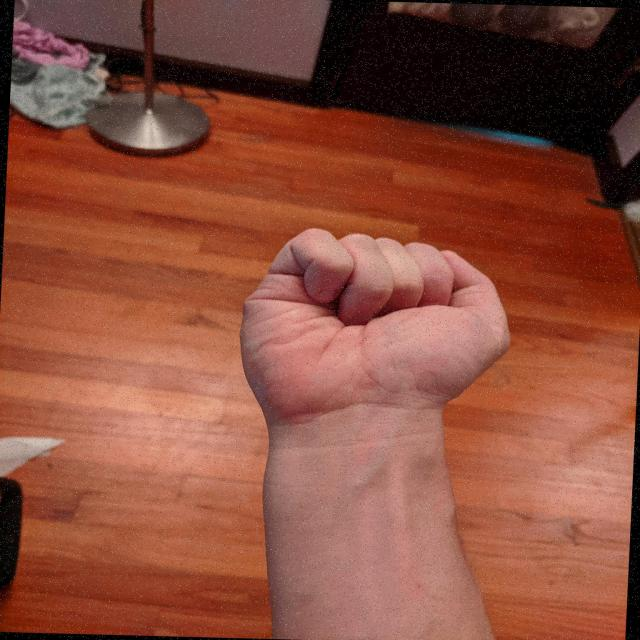A: (226, 219, 529, 438)
